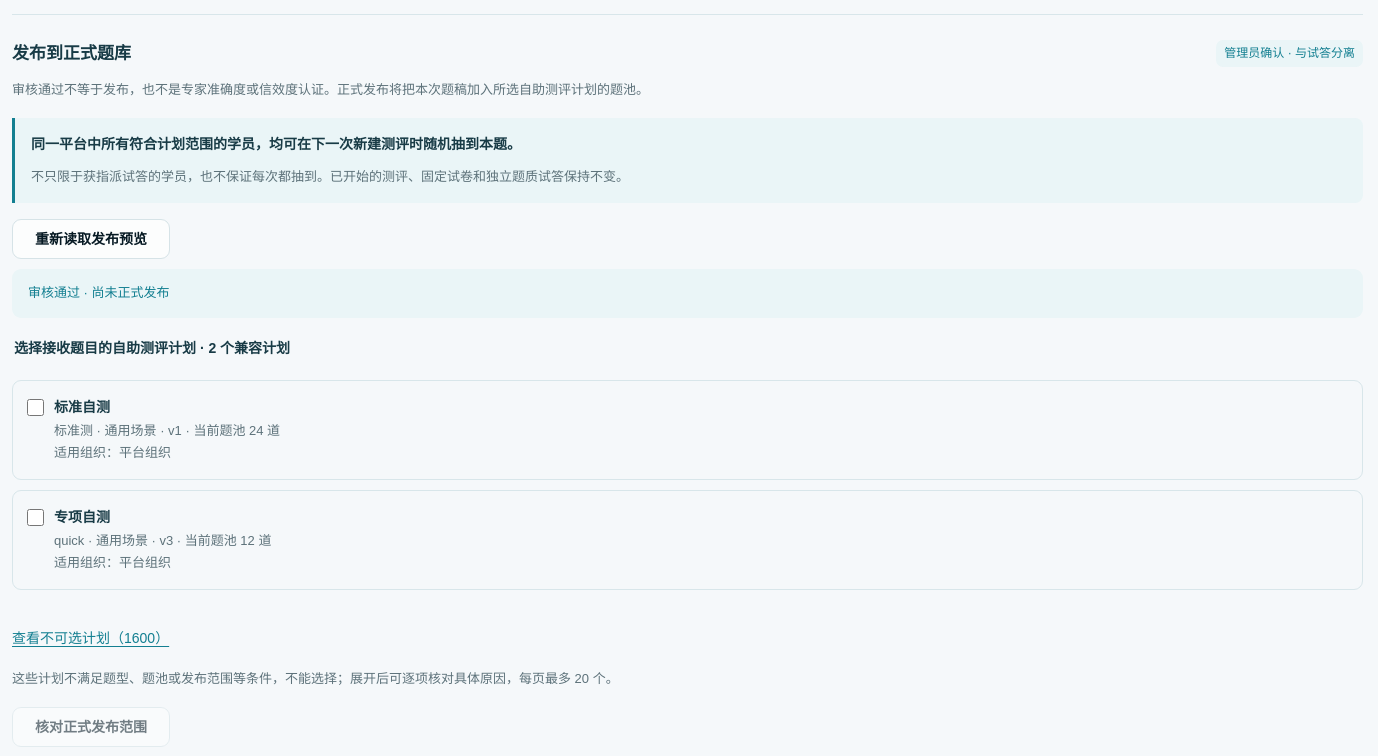
Scenario: formal review publication › keeps compatible targets visible and folds 1600 excluded plans into bounded pages
Expected: the text "历史计划 0" is not shown
Click the checkbox with test id "publication-target-plan-1". click: coordinates (36, 408)
box: [27, 399, 44, 416]
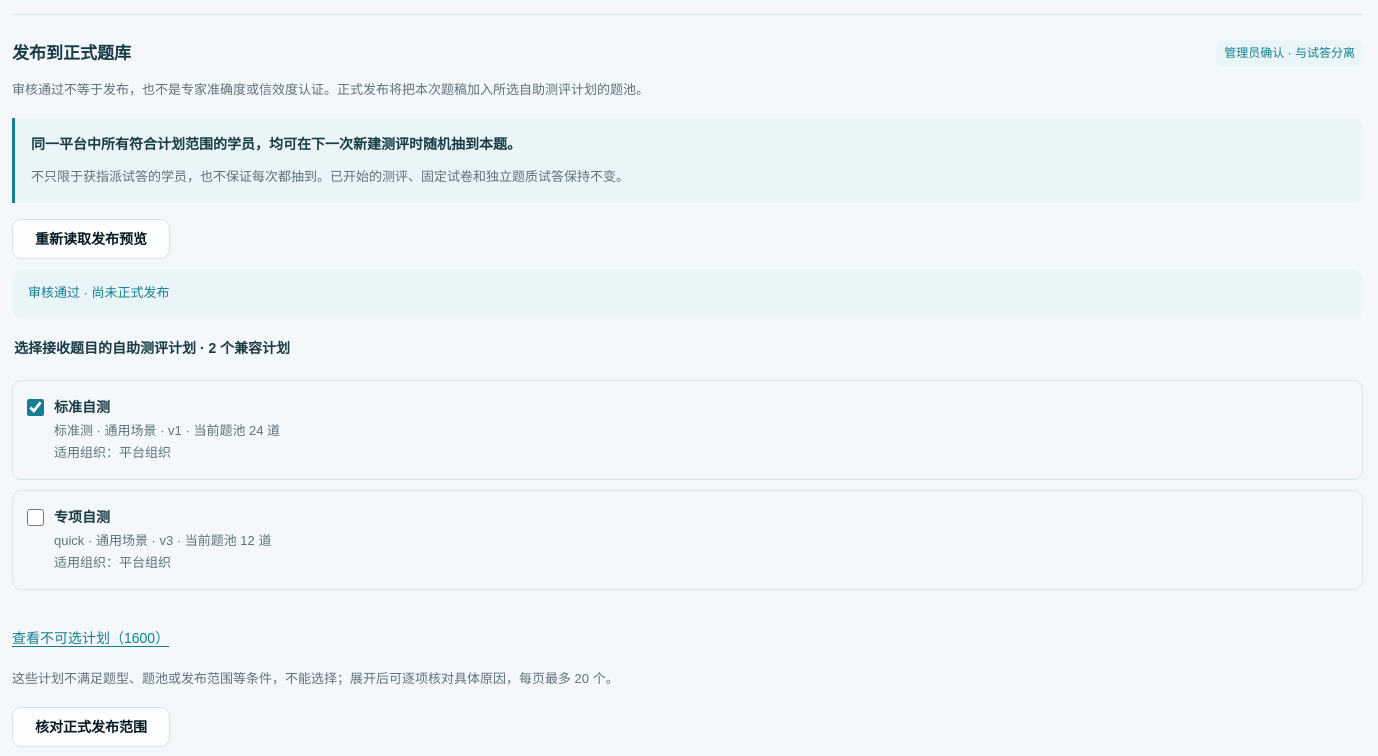
Click the button with test id "publication-excluded-toggle". click: coordinates (91, 638)
box: [12, 618, 169, 658]
(page scrolled)
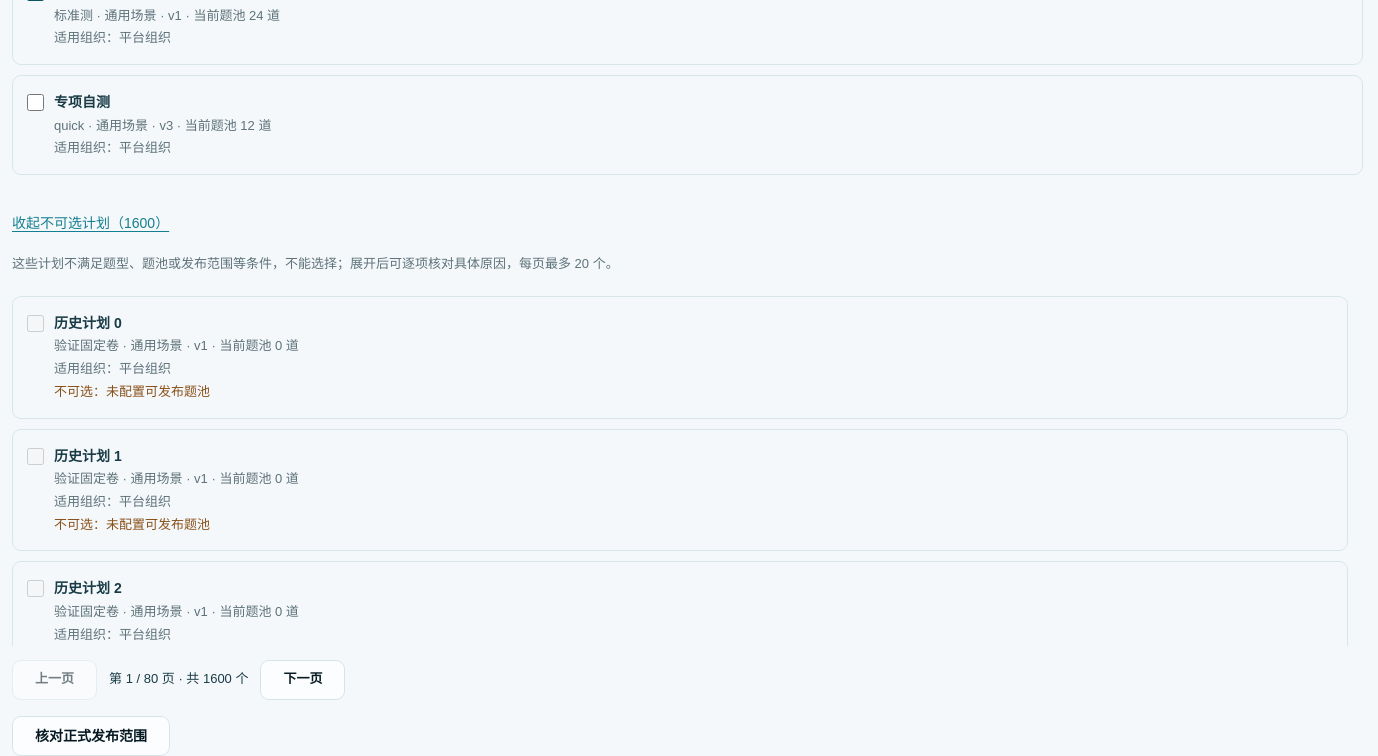
Now the button with test id "publication-excluded-toggle" is expanded, box [12, 203, 169, 243]
Now the checkbox with test id "publication-target-legacy-0" is disabled, box [27, 315, 44, 332]
Now the text "未配置可发布题池" is shown, box [54, 384, 210, 399]
Click the button with test id "publication-excluded-next". click: coordinates (303, 680)
box: [260, 660, 346, 700]
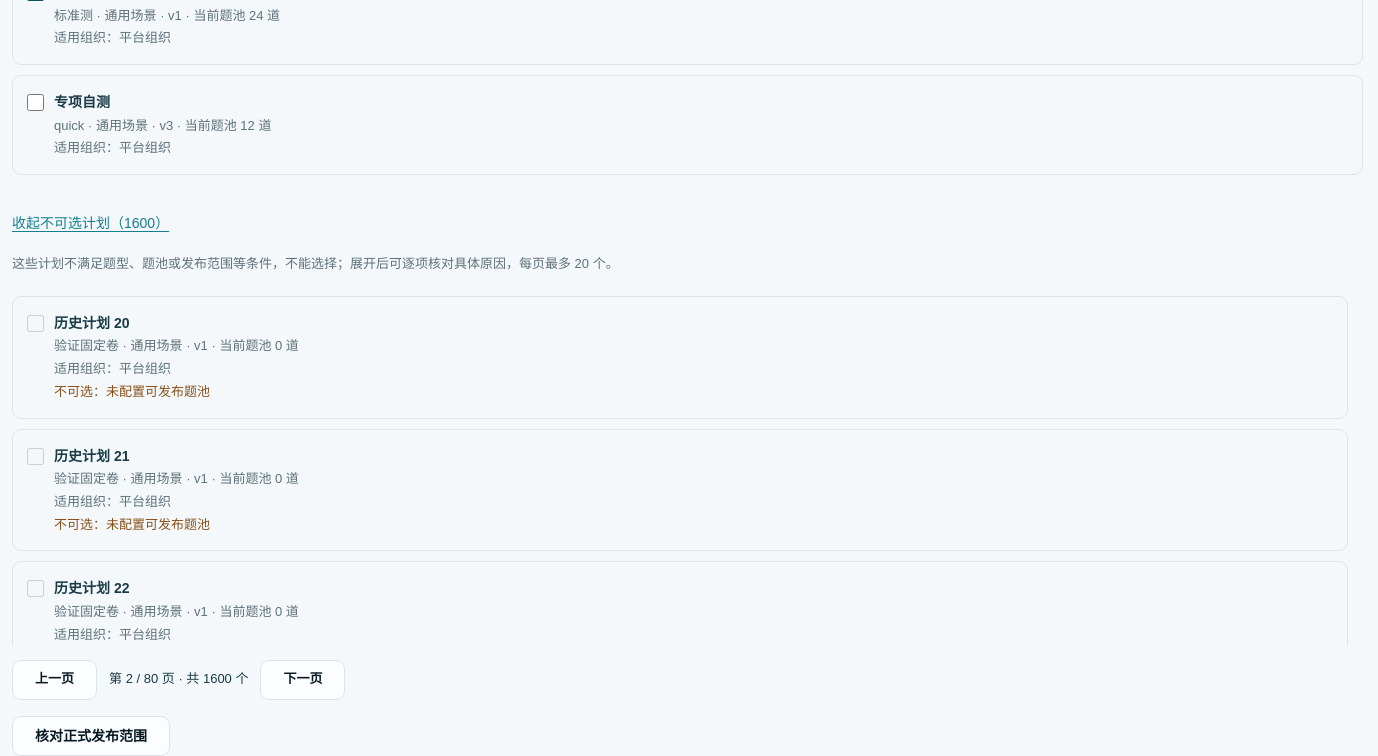
Now the checkbox with test id "publication-target-legacy-20" is shown, box [27, 315, 44, 332]
Now the button with test id "publication-prepare" is enabled, box [12, 716, 170, 755]
Click the button with test id "publication-excluded-toggle". click: coordinates (91, 223)
box: [12, 203, 169, 243]
(page scrolled)
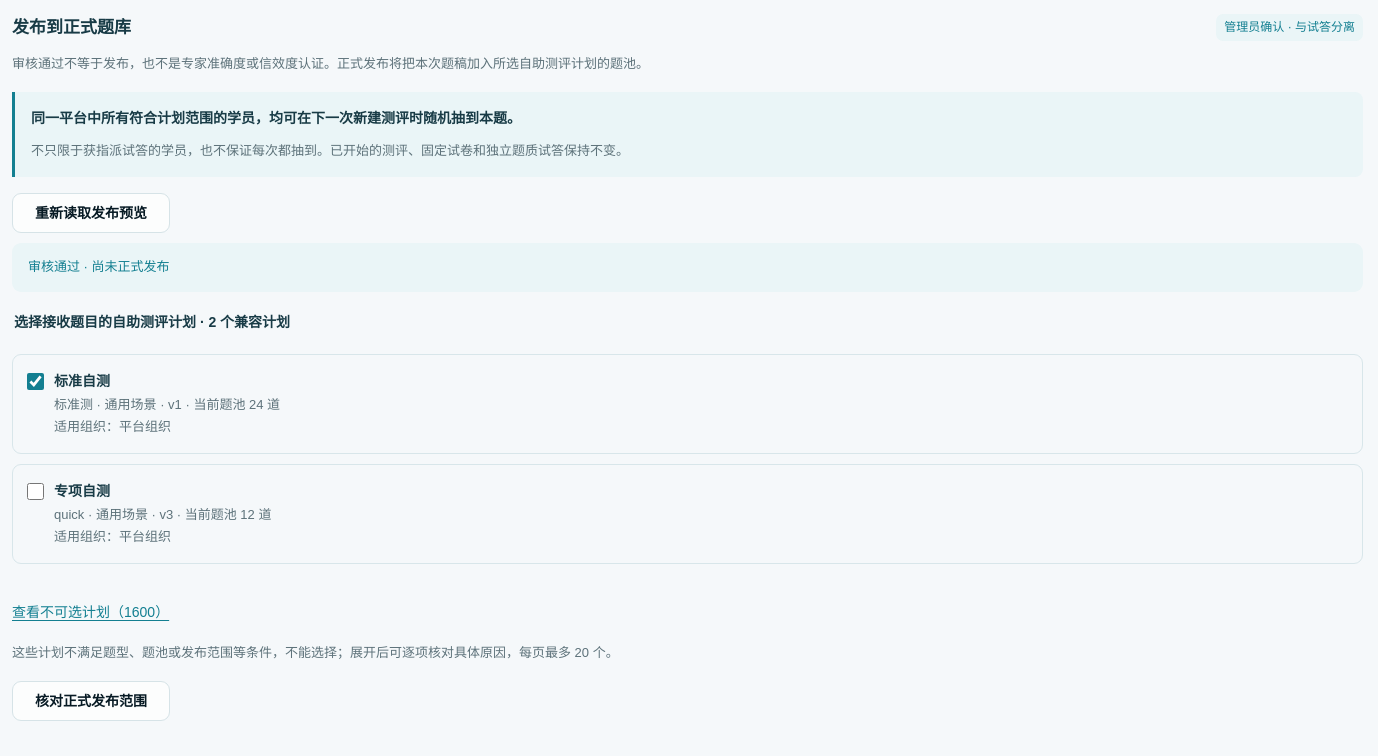
Expected: the number of checkboxes is 2, [27, 373, 44, 390]; [27, 483, 44, 500]
Click the button with test id "publication-excluded-toggle". click: coordinates (91, 612)
box: [12, 592, 169, 632]
(page scrolled)
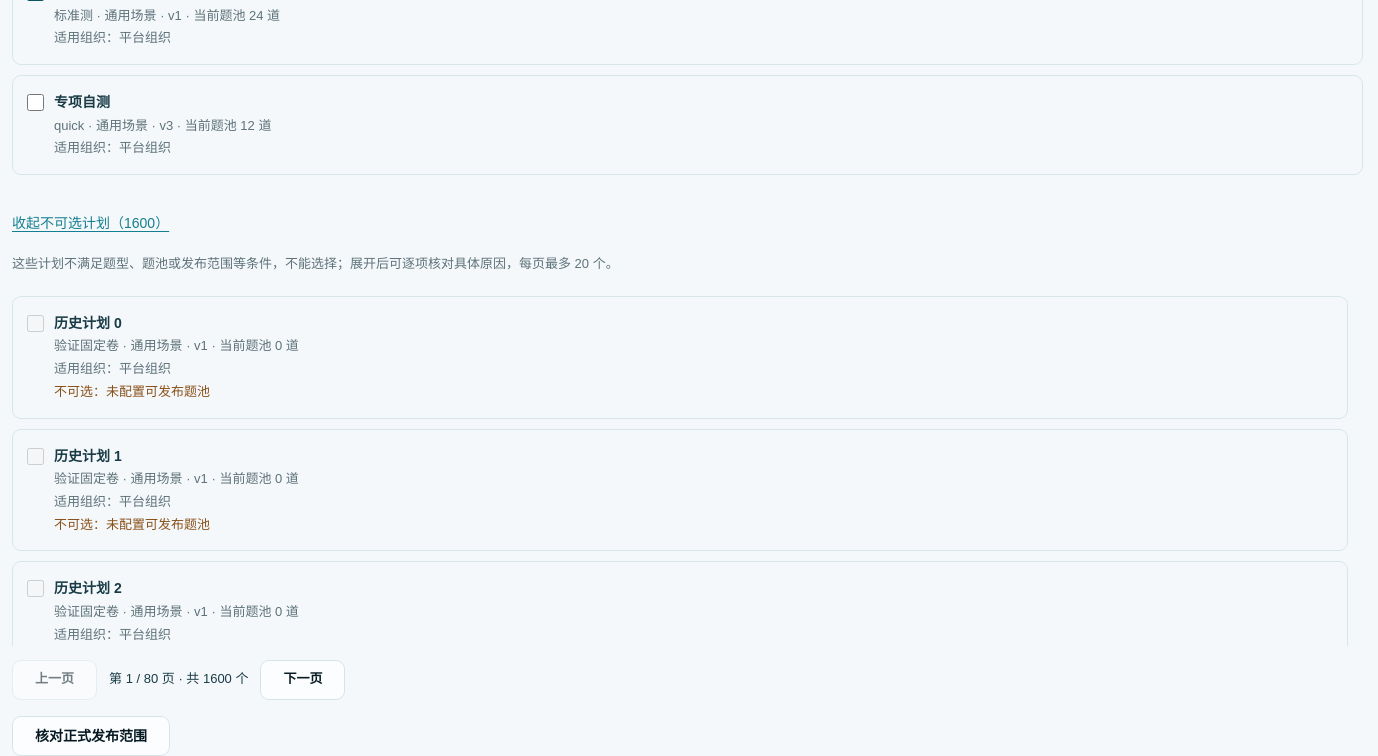
Now the checkbox with test id "publication-target-legacy-0" is shown, box [27, 315, 44, 332]
